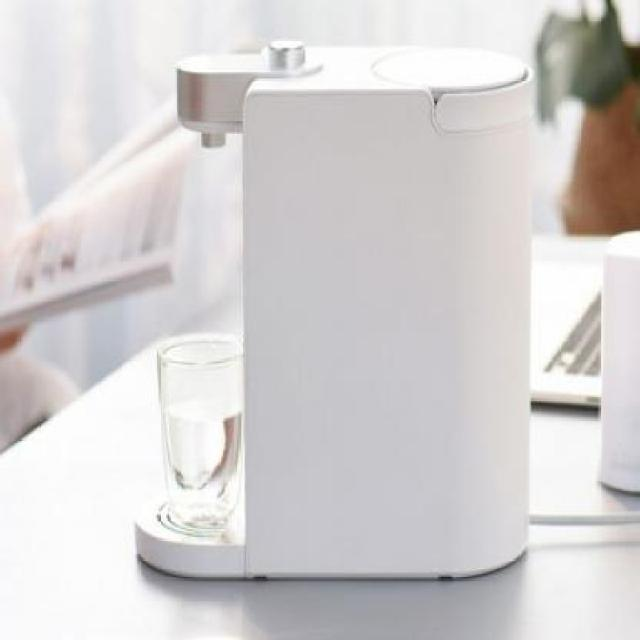cooler: (129, 34, 536, 582)
